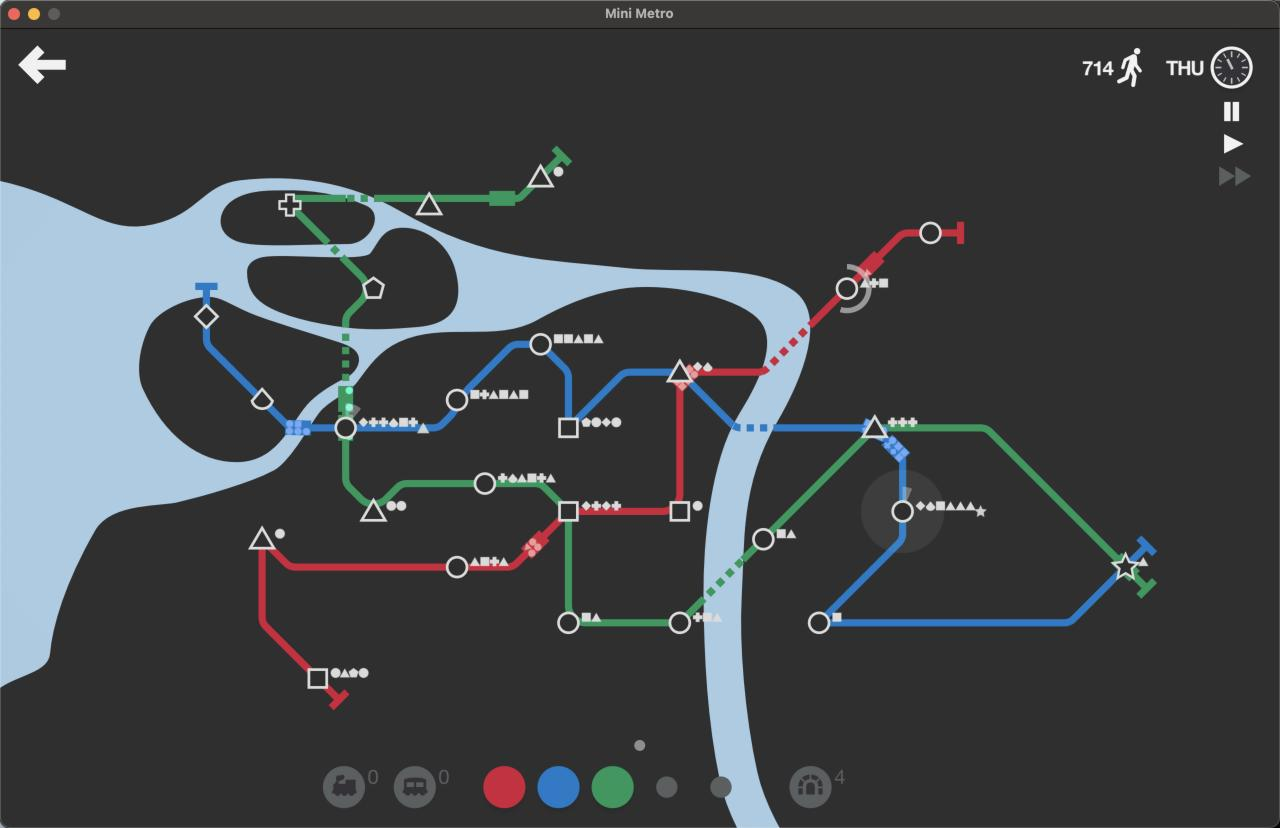CIRCLE: (834, 276, 859, 301), (334, 415, 358, 441), (890, 499, 915, 523), (668, 610, 692, 635), (751, 527, 775, 551), (807, 611, 831, 635), (556, 611, 580, 635), (474, 471, 497, 496), (445, 555, 468, 580), (446, 388, 469, 412), (529, 332, 552, 356), (919, 221, 941, 245)
CROSS: (277, 193, 301, 217)
GEM: (194, 304, 218, 328)
PENTAGON: (362, 276, 385, 300)
SQUARE: (557, 417, 579, 439), (669, 500, 691, 522), (558, 500, 580, 522), (307, 668, 328, 689)
STAR: (1111, 556, 1139, 582)
TRIANGLE: (860, 413, 891, 440), (525, 162, 553, 189), (666, 359, 695, 385), (360, 497, 388, 523), (248, 525, 276, 550), (415, 191, 443, 216)
WEDGE: (251, 387, 274, 410)
